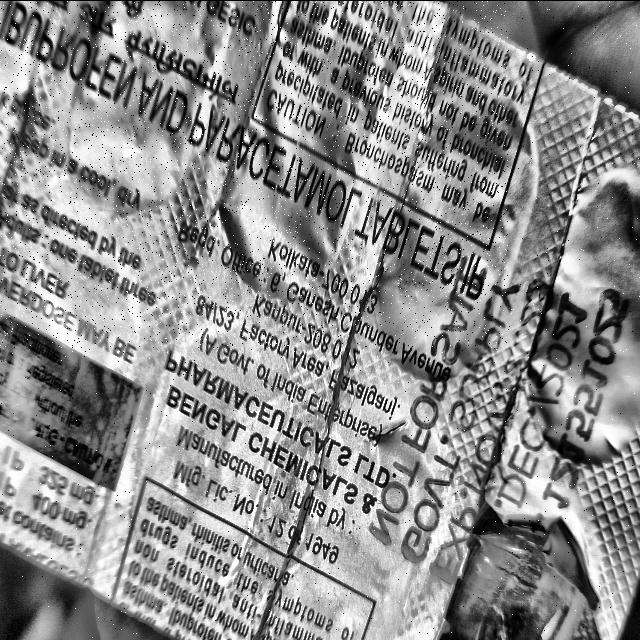IBUPROFEN AND PARACETAMOL TABLETS: (0, 0, 508, 347)
